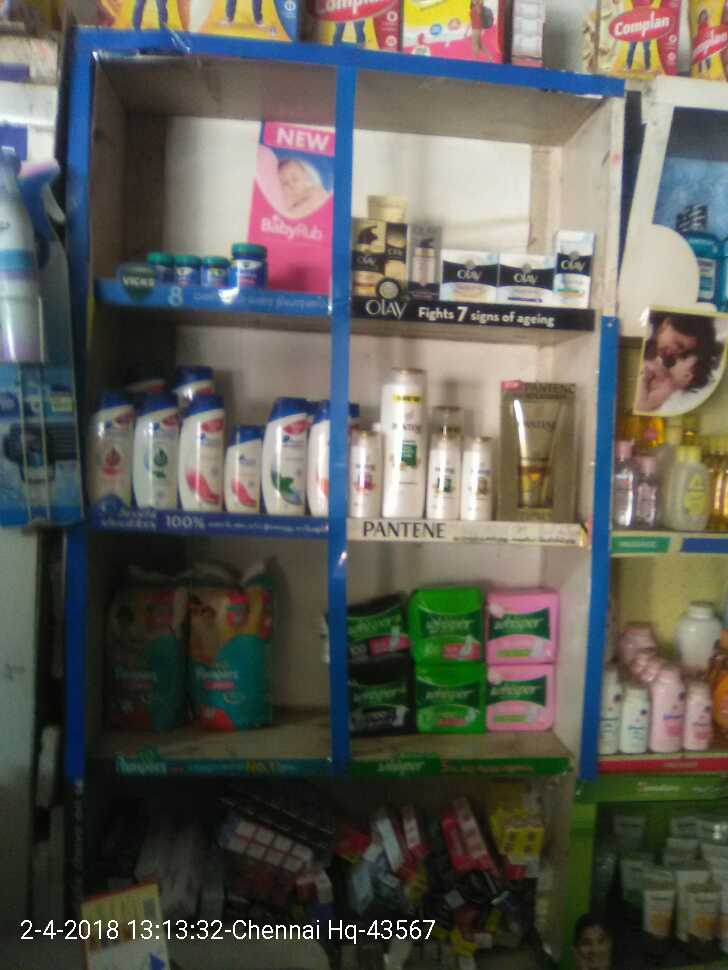vicks: (145, 237, 270, 296)
